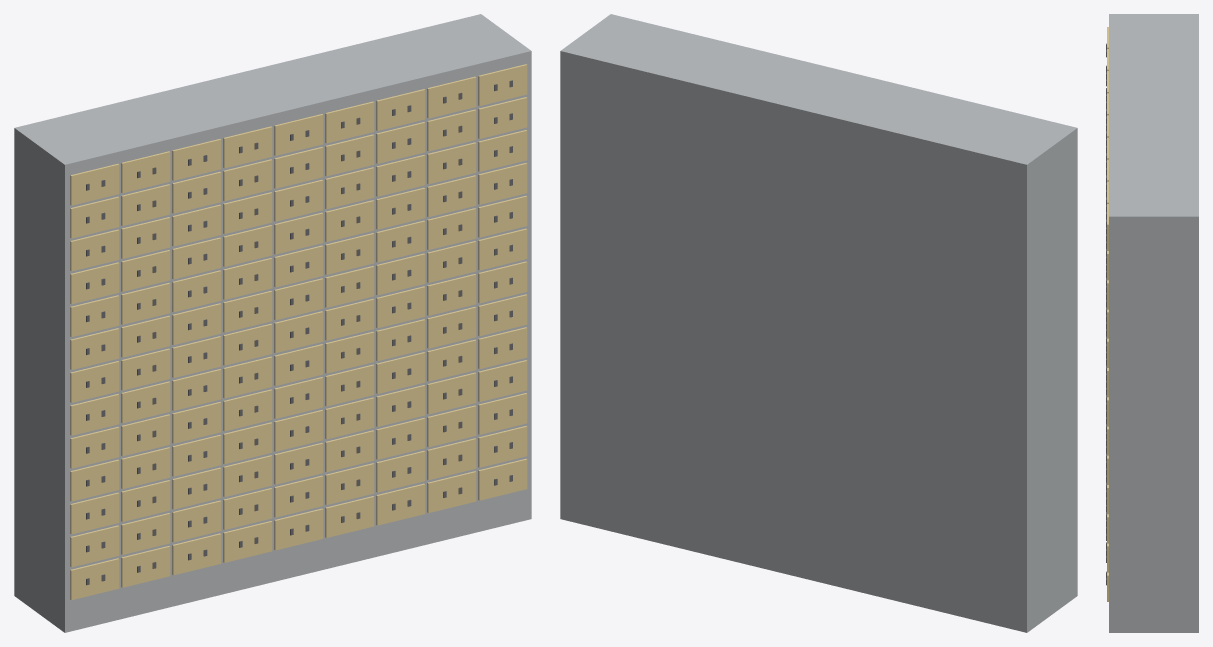
File: deposit_boxes_s.glb
The picture shows the model from 3 angles, left to right: view 1: azimuth 30°, elevation 25°; view 2: azimuth 150°, elevation 25°; view 3: azimuth 270°, elevation 25°; orthographic projection. The views are drawn at different scales.
Parts seen in each view (by area): view 1: deposit_boxes_s_brass, deposit_boxes_s_vault, deposit_boxes_s_dark; view 2: deposit_boxes_s_vault; view 3: deposit_boxes_s_vault, deposit_boxes_s_brass, deposit_boxes_s_dark.
Boxes of the visible parts, x1,y1,x2,y2 form: deposit_boxes_s_brass: [70, 64, 527, 600]; deposit_boxes_s_vault: [14, 14, 531, 632]; deposit_boxes_s_dark: [86, 80, 512, 585]; deposit_boxes_s_vault: [560, 14, 1077, 632]; deposit_boxes_s_vault: [1109, 14, 1198, 632]; deposit_boxes_s_brass: [1107, 27, 1108, 601]; deposit_boxes_s_dark: [1106, 43, 1106, 585].
Size of the model in its own units: 2.4 by 2.3 by 0.464.
